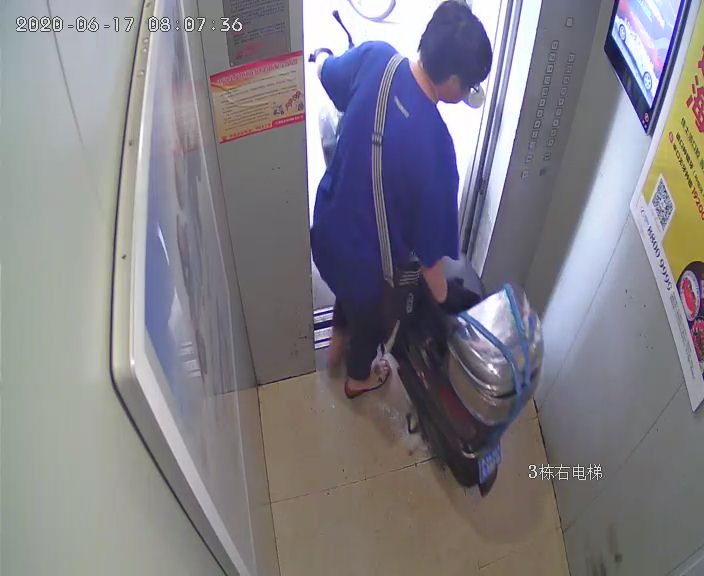Electric-bicycle: (308, 11, 547, 489)
